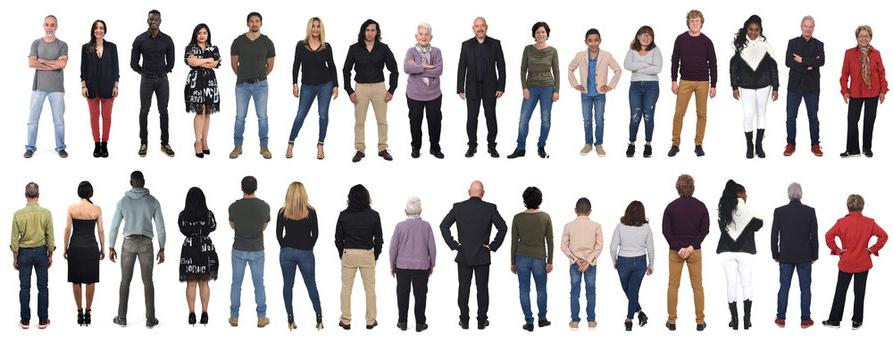coat: (728, 37, 780, 91), (714, 198, 763, 254)
dress: (176, 202, 220, 282), (182, 42, 221, 115), (65, 215, 102, 285)
jacket: (438, 195, 508, 266), (824, 210, 889, 273), (771, 198, 819, 264), (456, 34, 506, 95), (838, 44, 891, 100), (78, 40, 122, 100), (565, 50, 622, 95), (786, 35, 826, 91), (560, 215, 603, 267), (785, 87, 821, 149)
long sleeve shirt: (342, 41, 400, 95), (509, 210, 555, 267), (9, 201, 57, 255), (335, 207, 385, 258), (292, 40, 339, 89), (129, 29, 176, 77), (519, 44, 561, 96), (276, 205, 320, 252)
short sleeve shirt: (228, 196, 272, 253), (229, 32, 278, 82), (27, 37, 68, 92), (586, 50, 602, 96)
sweater: (107, 186, 167, 251), (669, 32, 720, 88), (661, 195, 711, 251), (402, 44, 445, 103), (608, 220, 656, 271), (389, 217, 435, 270), (622, 43, 663, 83)
trousers: (116, 234, 158, 321), (288, 78, 339, 146), (338, 245, 379, 326), (279, 245, 324, 318), (669, 79, 712, 149), (667, 248, 706, 324), (232, 78, 271, 150), (515, 84, 556, 152), (353, 80, 391, 153), (17, 245, 51, 324), (25, 90, 68, 152), (230, 248, 267, 317), (513, 255, 549, 325), (393, 267, 433, 328), (138, 74, 171, 147), (775, 260, 813, 323), (827, 270, 869, 326), (627, 79, 661, 146), (846, 92, 881, 157), (457, 260, 492, 325), (404, 92, 443, 150), (616, 254, 649, 319), (718, 249, 755, 305), (464, 92, 499, 148), (568, 262, 599, 321), (737, 84, 774, 133), (579, 92, 608, 146), (86, 97, 119, 144)
